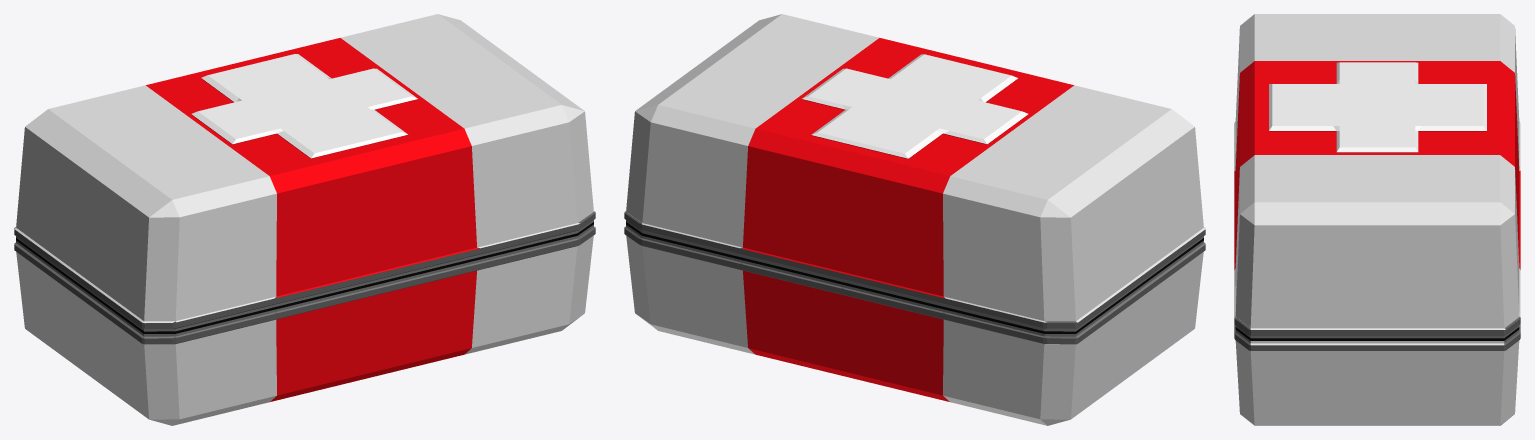
The model's file is health.glb.
3 renders of one model, left to right at view 1: azimuth 30°, elevation 25°; view 2: azimuth 150°, elevation 25°; view 3: azimuth 270°, elevation 25°, orthographic.
Visible parts, largest first — view 1: Cube; view 2: Cube; view 3: Cube.
Boxes of the visible parts, x1,y1,x2,y2 form: Cube: (14,14,595,425); Cube: (624,14,1205,425); Cube: (1234,14,1520,425).
Bounding box in the file's own units: 2.08 × 1 × 1.15.
